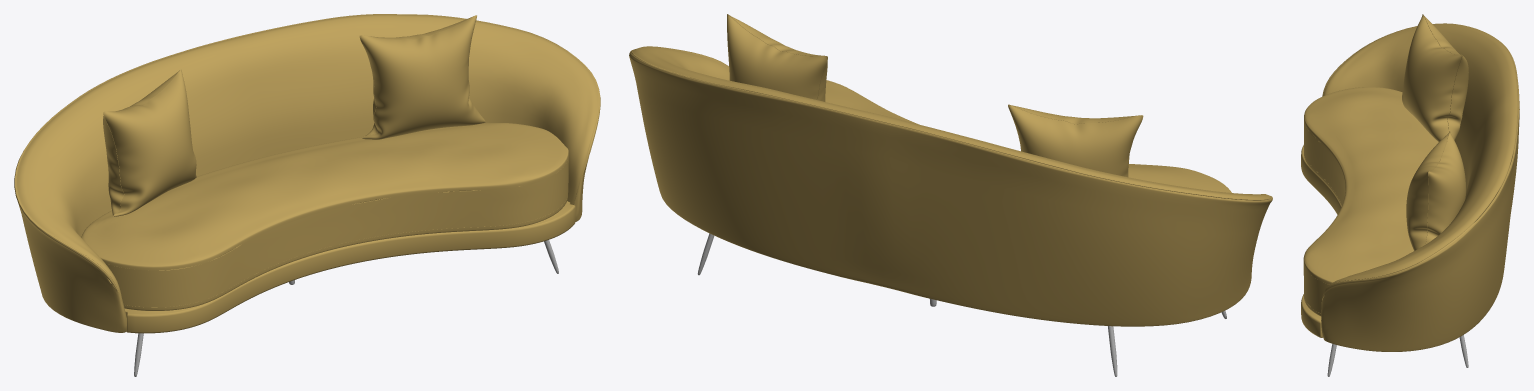
Rendered from sofa2.gltf.
The picture shows the model from 3 angles, left to right: view 1: azimuth 30°, elevation 25°; view 2: azimuth 150°, elevation 25°; view 3: azimuth 270°, elevation 25°; orthographic projection. The views are drawn at different scales.
Parts seen in each view (by area): view 1: sofa back, seat, pillow, basis; view 2: sofa back, pillow, seat, legs; view 3: sofa back, seat, pillow, basis, legs.
Part boxes in pixels (<box>): sofa back: <box>14,14,600,332</box>; seat: <box>81,123,568,310</box>; pillow: <box>103,15,485,216</box>; basis: <box>125,201,575,333</box>; sofa back: <box>629,46,1272,326</box>; pillow: <box>727,14,1143,177</box>; seat: <box>825,80,1231,192</box>; legs: <box>697,233,1226,376</box>; sofa back: <box>1321,23,1519,351</box>; seat: <box>1303,87,1438,316</box>; pillow: <box>1402,14,1468,250</box>; basis: <box>1301,145,1341,337</box>; legs: <box>1327,335,1468,376</box>.
Size of the model in its own units: 2.42 by 0.9084 by 0.9244.
